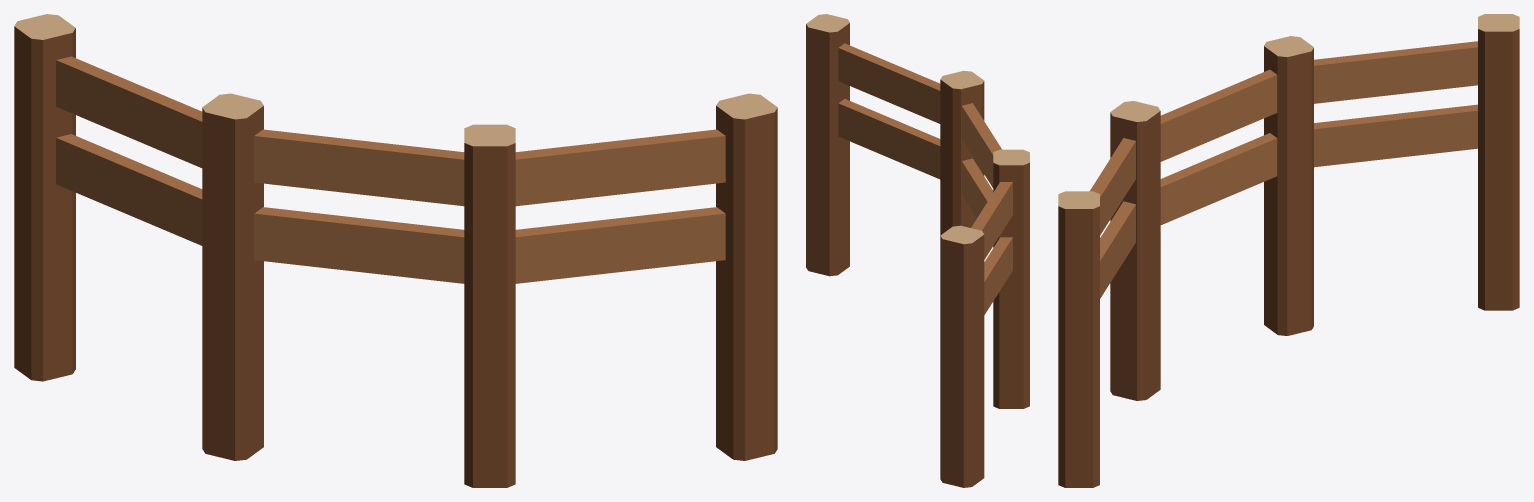
The model's file is Prop_Decorative_Fence_Curve_2x2.obj.
3 views of the same model, side by side, from view 1: azimuth 30°, elevation 25°; view 2: azimuth 150°, elevation 25°; view 3: azimuth 270°, elevation 25° (orthographic). The views are drawn at different scales.
Parts seen in each view (by area): view 1: Fence_Post_Side, Fence_Rail, Fence_Post_Top; view 2: Fence_Post_Side, Fence_Rail, Fence_Post_Top; view 3: Fence_Post_Side, Fence_Rail, Fence_Post_Top.
Boxes of the visible parts, <box> form: Fence_Post_Side: <box>14,26,777,487</box>; Fence_Rail: <box>56,56,725,283</box>; Fence_Post_Top: <box>14,14,777,146</box>; Fence_Post_Side: <box>806,23,1029,487</box>; Fence_Rail: <box>838,43,1012,314</box>; Fence_Post_Top: <box>806,14,1029,244</box>; Fence_Post_Side: <box>1058,29,1519,487</box>; Fence_Rail: <box>1090,41,1477,298</box>; Fence_Post_Top: <box>1058,14,1519,208</box>.
Size of the model in its own units: 1.65 by 1.1 by 1.65.
